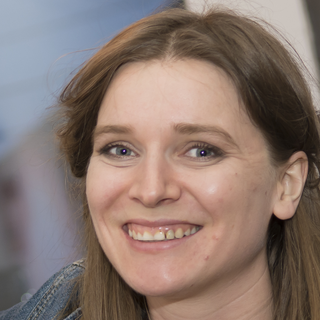eye: (167, 132, 231, 167), (90, 134, 145, 169)
